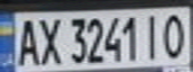1: (121, 12, 142, 62)
2: (84, 13, 106, 64)
3: (63, 13, 87, 64)
4: (103, 12, 124, 63)
A: (12, 14, 42, 68)
I: (139, 11, 166, 61)
O: (160, 10, 190, 60)
X: (36, 14, 63, 65)
